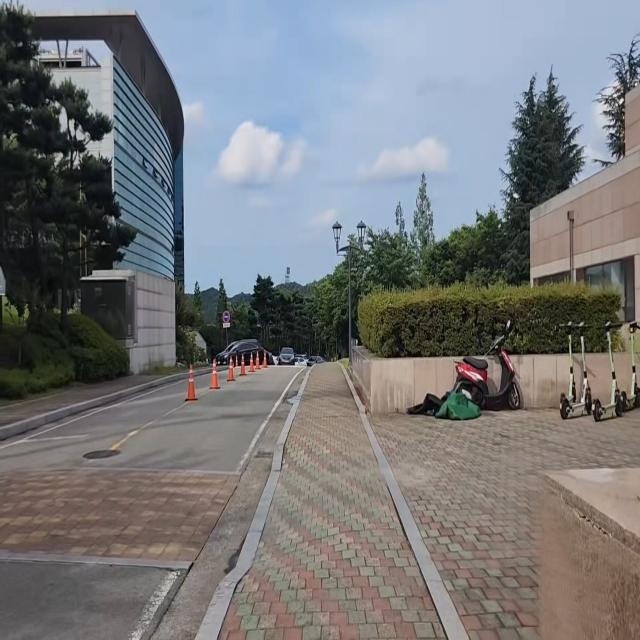obstacle: (417, 308, 530, 422), (547, 314, 640, 428)
road: (7, 363, 316, 640)
sidewalk: (206, 363, 480, 640), (365, 390, 640, 640), (0, 370, 189, 434)
